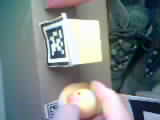duck: (48, 77, 112, 115)
